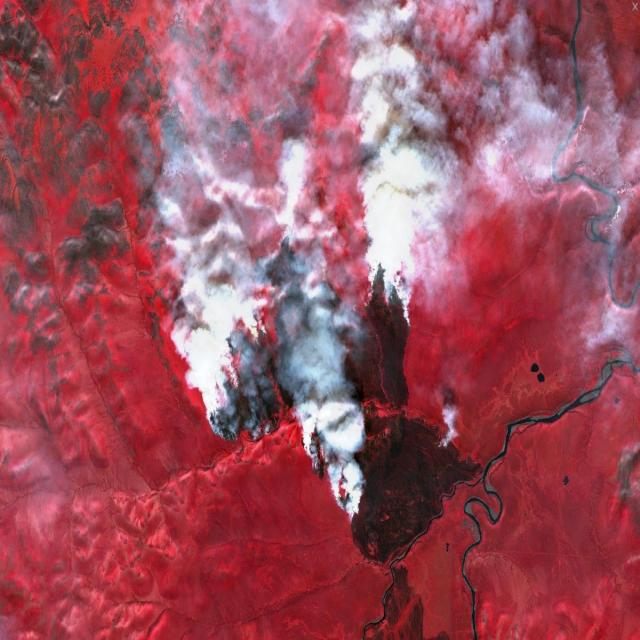fire: (195, 221, 469, 524)
